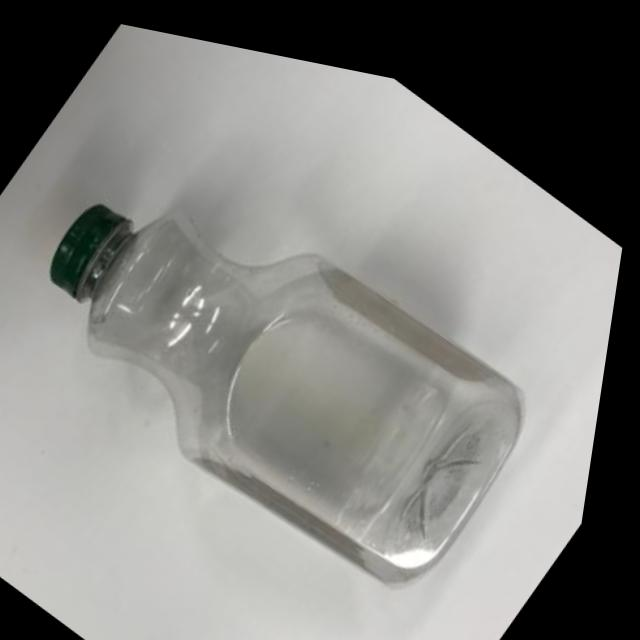plastic: (0, 6, 639, 640)
